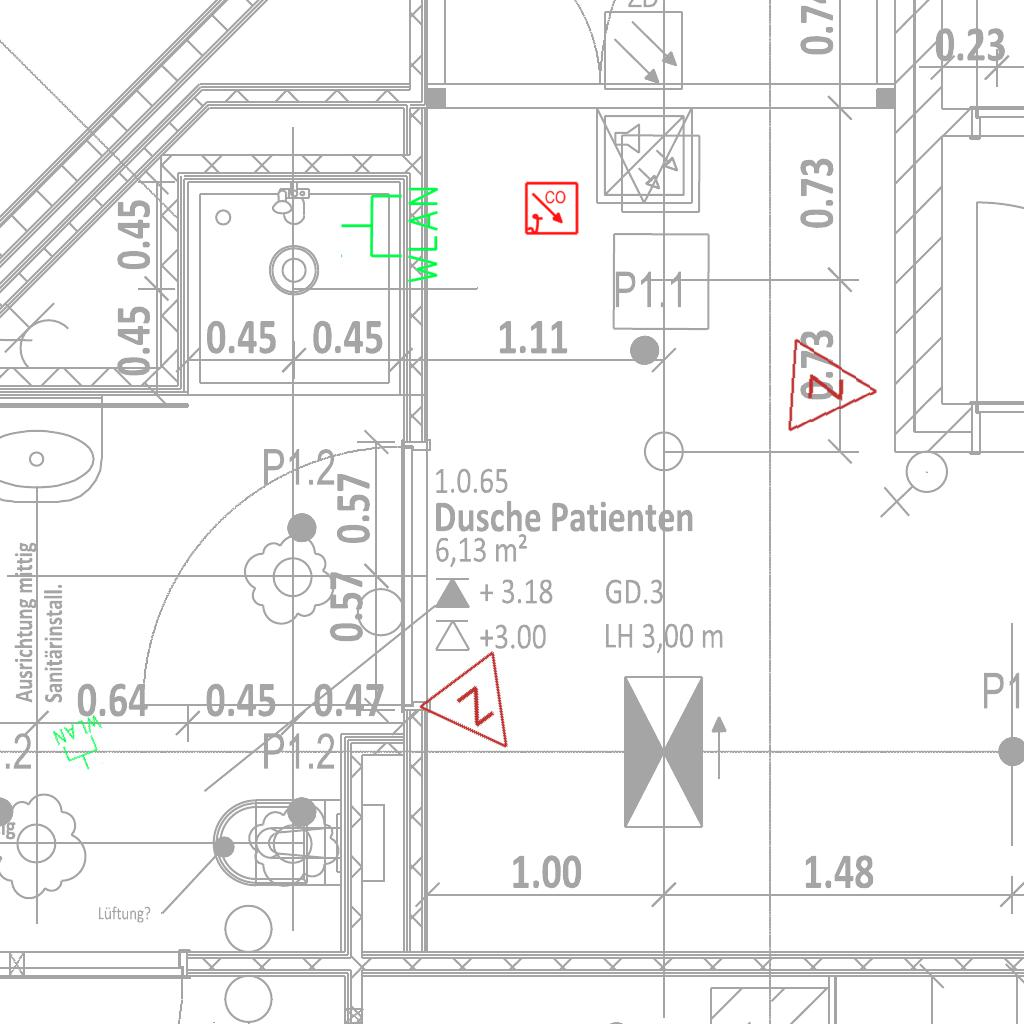ROA_Rauchmelder_optisch_mit_Signalgeber_(Sockelsirene): (524, 181, 580, 237)
WLAN: (338, 183, 442, 288), (50, 711, 118, 779)
Zimmersignalleuchte: (412, 642, 552, 782), (780, 334, 888, 440)
